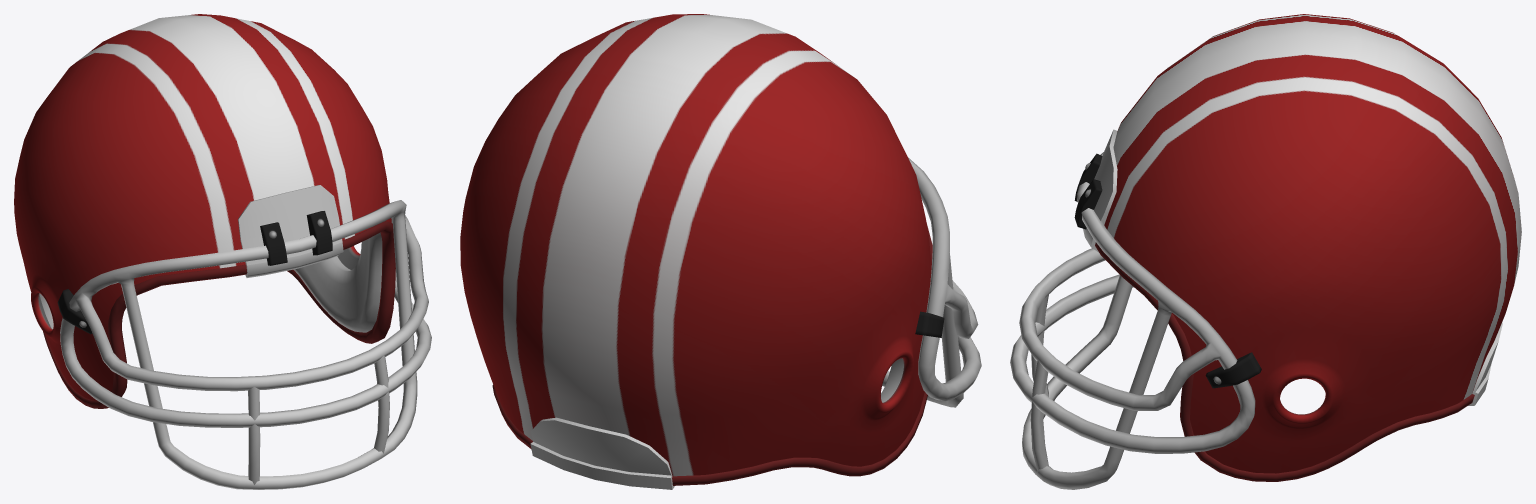
Rendered from FootballHelmet.FBX.
The picture shows the model from 3 angles, left to right: view 1: azimuth 30°, elevation 25°; view 2: azimuth 150°, elevation 25°; view 3: azimuth 270°, elevation 25°; orthographic projection. The views are drawn at different scales.
Parts seen in each view (by area): view 1: FootballHelmet; view 2: FootballHelmet; view 3: FootballHelmet.
Boxes of the visible parts, left/top/right/bottom form: FootballHelmet: left=14, top=14, right=431, bottom=489; FootballHelmet: left=460, top=14, right=981, bottom=489; FootballHelmet: left=1010, top=14, right=1521, bottom=489.
Bounding box in the file's own units: 47.56 × 49.05 × 54.81.
Materials: 1 (1 with a texture image).
